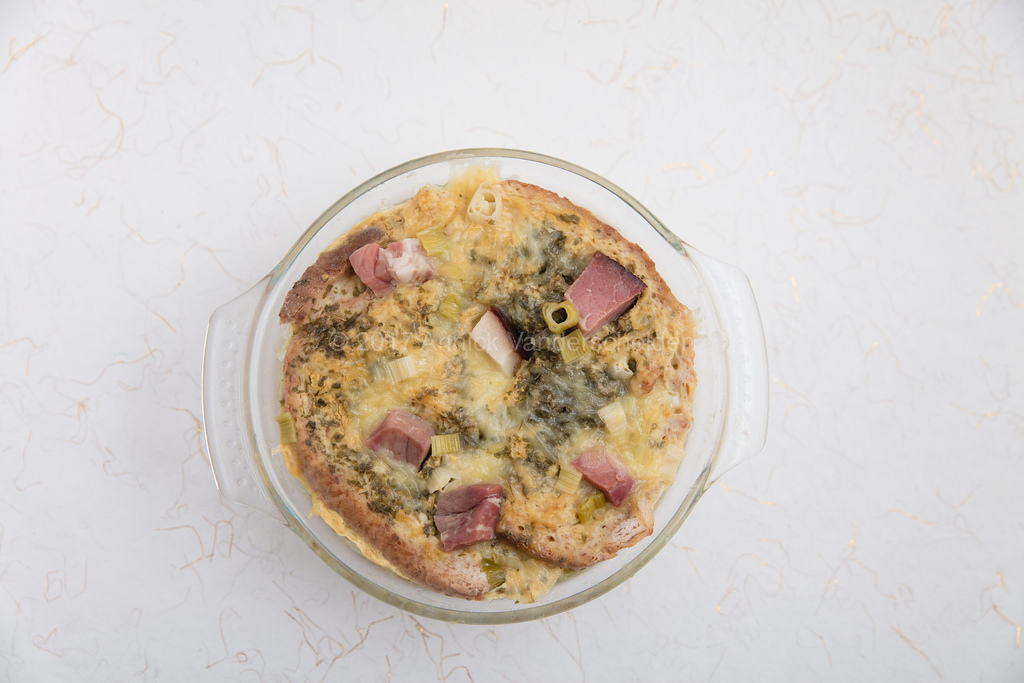slice of bread: (404, 192, 614, 561)
